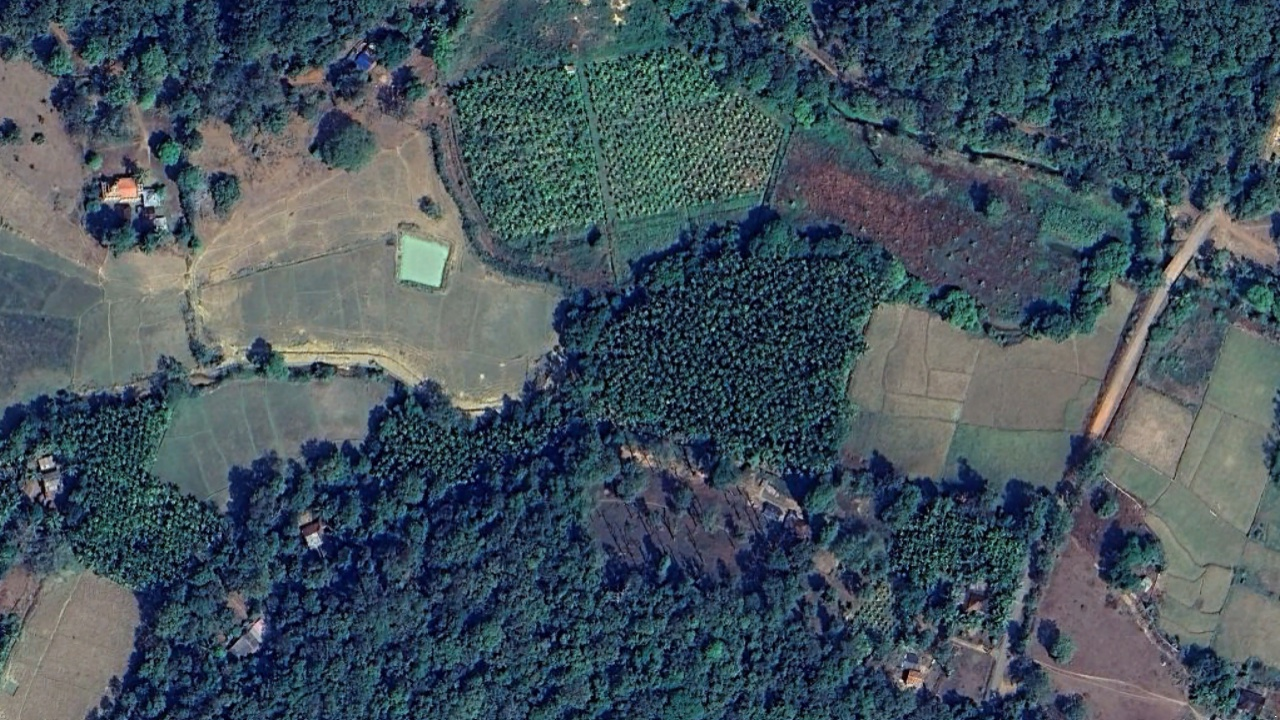arecanut: (441, 41, 784, 238), (597, 246, 874, 477), (62, 390, 228, 596), (891, 500, 1022, 629), (382, 397, 572, 483)
